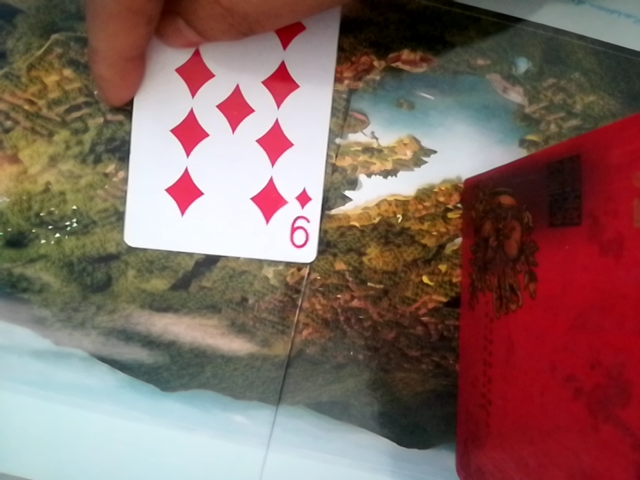fk 9: (111, 15, 355, 278)
